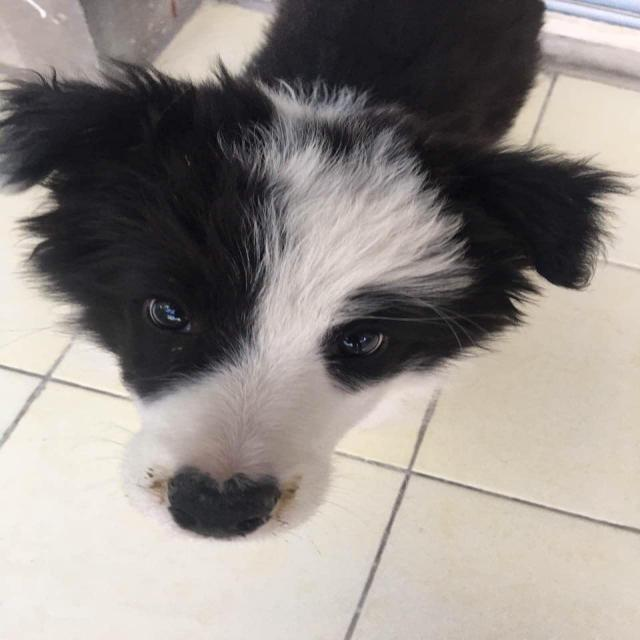eye: (141, 289, 192, 337), (336, 323, 391, 361)
